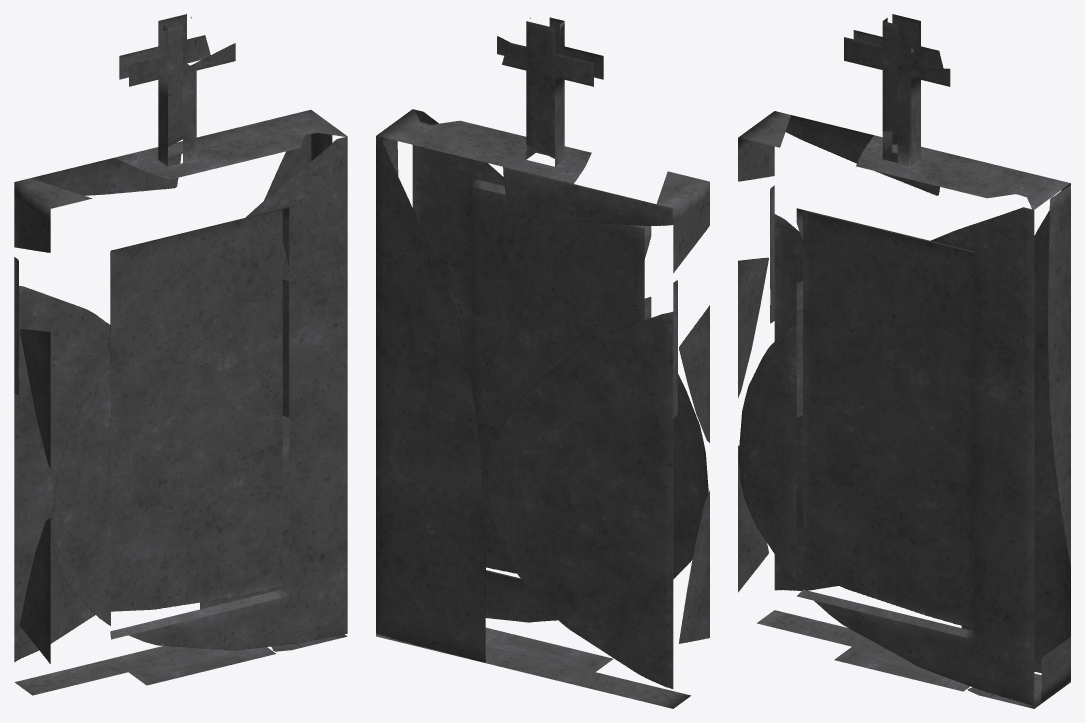
File: stone_10.fbx
The picture shows the model from 3 angles, left to right: view 1: azimuth 30°, elevation 25°; view 2: azimuth 150°, elevation 25°; view 3: azimuth 330°, elevation 25°; orthographic projection.
Parts seen in each view (by area): view 1: stone_10; view 2: stone_10; view 3: stone_10.
Part boxes in pixels (bbox=[...]): stone_10: bbox=[14, 14, 347, 695]; stone_10: bbox=[376, 17, 709, 708]; stone_10: bbox=[738, 14, 1070, 708].
Bounding box in the file's own units: 76.4 × 157 × 17.07.
